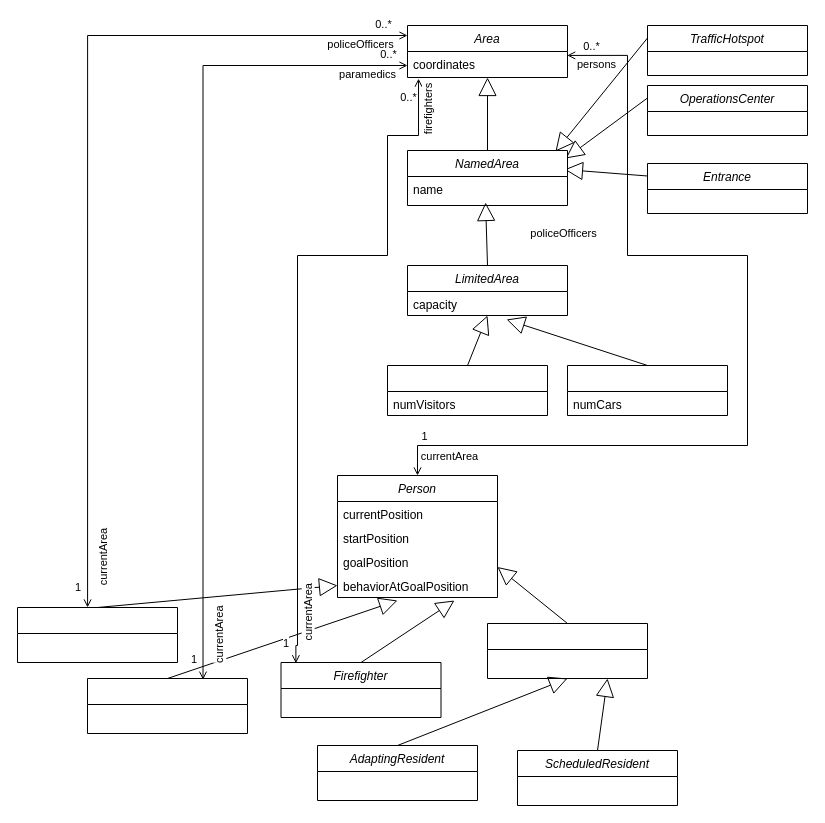
This 825x823 diagram has some shape labels left out. Here are the shapes that lost their labels. From the top down, the box of each, then its label:
(386, 364, 548, 416): Venue
(566, 364, 728, 416): ParkingArea
(16, 606, 178, 662): PoliceOfficer
(486, 622, 648, 678): Resident
(86, 678, 248, 734): Paramedic
